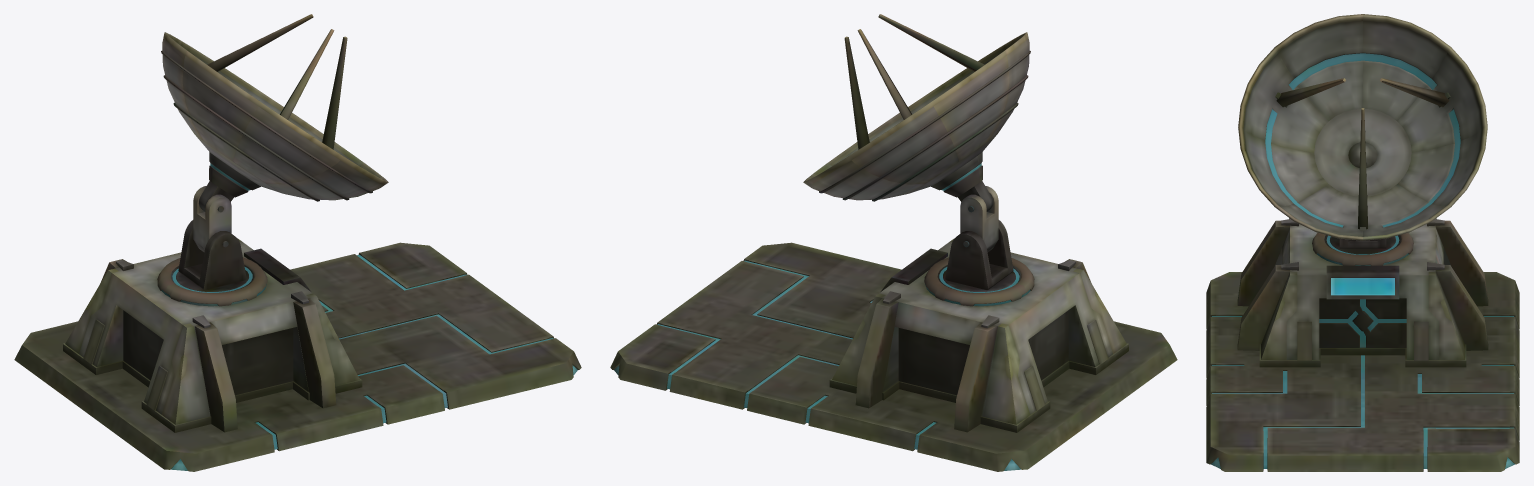
File: SM_PalGlobalBox_edf332.glb
3 views of the same model, side by side, from view 1: azimuth 30°, elevation 25°; view 2: azimuth 150°, elevation 25°; view 3: azimuth 270°, elevation 25° (orthographic). The views are drawn at different scales.
Bounding box in the file's own units: 4.89 × 3.81 × 3.44.
Materials: 1 (1 with a texture image).
